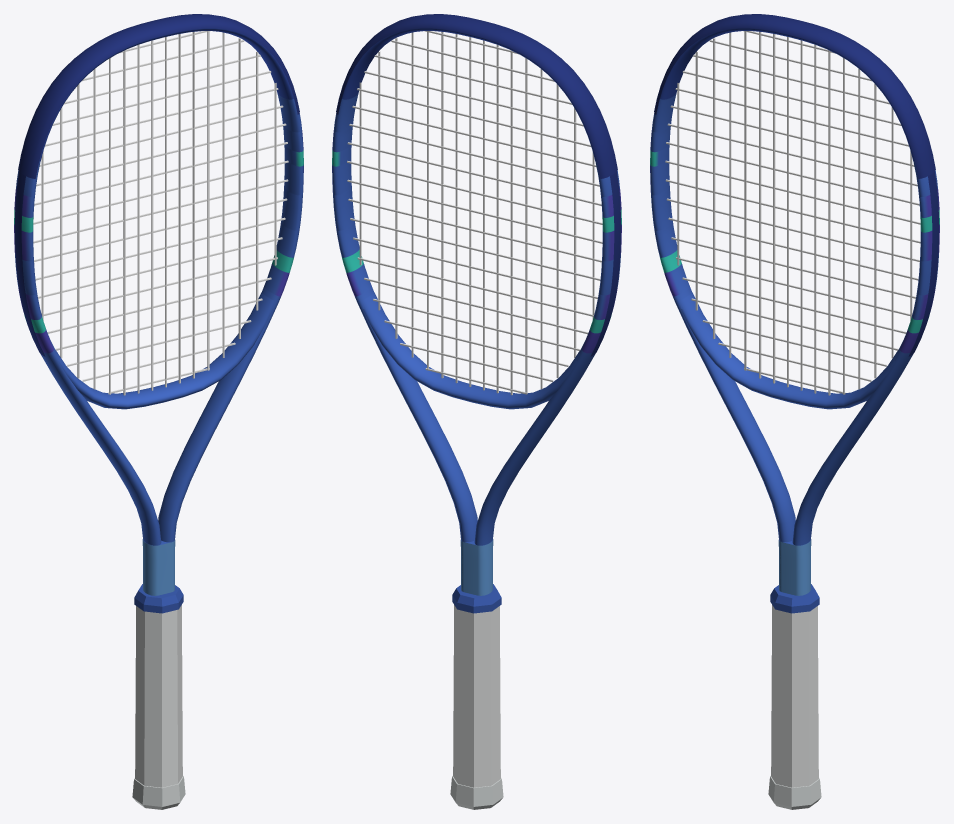
Rendered from yonex-ezone-98-2025.glb.
3 views of the same model, side by side, from view 1: azimuth 30°, elevation 25°; view 2: azimuth 150°, elevation 25°; view 3: azimuth 330°, elevation 25° (orthographic).
Parts seen in each view (by area): view 1: frame, strings_mains, strings_crosses, grip, bumper, grommets, butt_cap, collar; view 2: frame, strings_mains, strings_crosses, grip, bumper, grommets, butt_cap, collar; view 3: frame, strings_mains, strings_crosses, grip, bumper, grommets, butt_cap, collar.
Part boxes in pixels (left/top/right/bottom): frame: left=14, top=28, right=303, bottom=595; strings_mains: left=41, top=31, right=276, bottom=395; strings_crosses: left=33, top=31, right=288, bottom=394; grip: left=135, top=605, right=182, bottom=787; bumper: left=18, top=14, right=299, bottom=178; grommets: left=15, top=171, right=45, bottom=356; butt_cap: left=132, top=776, right=185, bottom=809; collar: left=134, top=584, right=183, bottom=613; frame: left=332, top=28, right=621, bottom=595; strings_mains: left=359, top=32, right=594, bottom=395; strings_crosses: left=347, top=31, right=602, bottom=394; grip: left=453, top=605, right=500, bottom=787; bumper: left=336, top=14, right=617, bottom=178; grommets: left=590, top=171, right=620, bottom=356; butt_cap: left=450, top=776, right=503, bottom=809; collar: left=452, top=584, right=501, bottom=613; frame: left=650, top=28, right=939, bottom=595; strings_mains: left=677, top=31, right=912, bottom=395; strings_crosses: left=665, top=31, right=920, bottom=394; grip: left=771, top=605, right=818, bottom=787; bumper: left=654, top=14, right=935, bottom=178; grommets: left=908, top=171, right=938, bottom=356; butt_cap: left=768, top=776, right=821, bottom=809; collar: left=770, top=584, right=819, bottom=613.
Bounding box in the file's own units: 0.2612 × 0.6861 × 0.0396.
